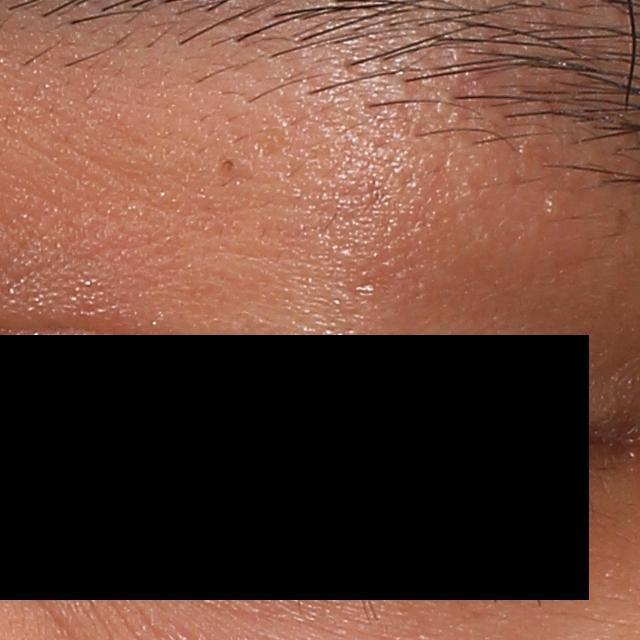nevus: (218, 155, 239, 180)
